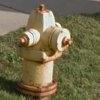Hydrant: (9, 0, 74, 100)
